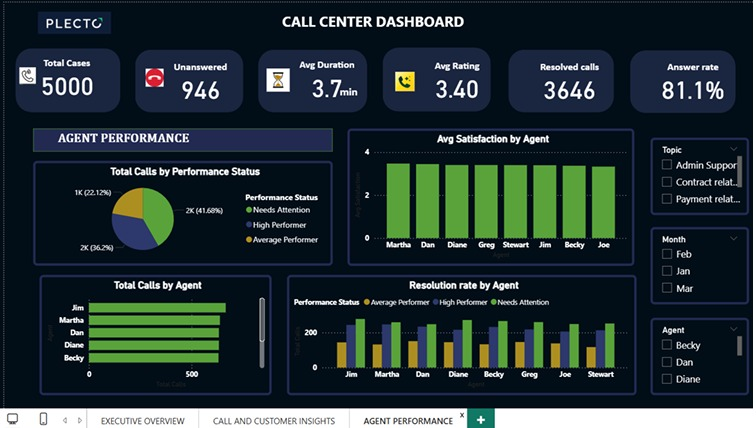

What the dashboard file says about the page in this screenshot:
{"tool":"powerbi","page":{"name":"AGENT PERFORMANCE","canvas":[1280,720],"ordinal":2},"visuals":[{"type":"image","box":[48.9,10.7,139.5,47.7],"z":0},{"type":"shape","box":[19.1,77.5,177.6,108.5],"z":1000},{"type":"card","title":"Total Cases","fields":{"Values":["main.Total Calls"]},"box":[48.9,90.6,114.4,72.7],"z":2000},{"type":"image","box":[19.1,104.9,40.5,39.3],"z":3000},{"type":"shape","box":[854.7,79.9,178.8,106.1],"z":4000},{"type":"shape","box":[221.7,79.9,183.6,106.1],"z":5000},{"type":"shape","box":[430.3,79.9,184.8,106.1],"z":6000},{"type":"shape","box":[641.3,76.3,183.6,108.5],"z":7000},{"type":"card","title":"Unanswered","fields":{"Values":["main.Unanswered Calls"]},"box":[275.4,97.7,114.4,72.7],"z":8000},{"type":"card","title":"Avg Duration","fields":{"Values":["main.Avg Talk Duration"]},"box":[479.2,94.2,135.9,72.7],"z":9000},{"type":"card","title":"Avg Rating","fields":{"Values":["main.Avg Satisfaction"]},"box":[710.4,95.4,114.4,72.7],"z":10000},{"type":"textbox","box":[466.1,10.7,349.3,47.7],"z":11000},{"type":"image","box":[234.8,107.3,40.5,40.5],"z":12000},{"type":"image","box":[658,94.2,42.9,78.7],"z":13000},{"type":"image","box":[439.9,96.6,48.9,70.3],"z":14000},{"type":"card","title":"Resolved calls","fields":{"Values":["main.Resolved Calls"]},"box":[901.2,97.7,114.4,72.7],"z":15000},{"type":"shape","box":[1060.9,81.1,178.8,106.1],"z":16000},{"type":"card","title":"Answer rate","fields":{"Values":["main.Answer Rate"]},"box":[1095.5,97.7,144.2,72.7],"z":17000},{"type":"textbox","box":[563.8,134.7,51.3,34.6],"z":18000},{"type":"shape","box":[48.9,213.4,507.8,39.3],"z":19000},{"type":"textbox","box":[85.8,213.4,264.6,40.5],"z":20000},{"type":"clusteredColumnChart","title":"Resolution rate by Agent","fields":{"Category":["main.Agent"],"Series":["main.Performance Status"],"Y":["main.Total Calls"]},"box":[479.2,461.3,592.4,203.8],"z":21000},{"type":"barChart","fields":{"Y":["main.Total Calls"],"Category":["main.Agent"]},"box":[59.6,461.3,393.4,203.8],"z":22000},{"type":"columnChart","fields":{"Category":["main.Agent"],"Y":["main.Avg Satisfaction"]},"box":[581.7,213.4,486.3,232.4],"z":23000},{"type":"slicer","fields":{"Values":["main.Topic"]},"box":[1095.5,228.9,166.9,131.1],"z":24000},{"type":"slicer","fields":{"Values":["DateTable.Month"]},"box":[1095.5,380.3,166.9,131.1],"z":25000},{"type":"slicer","fields":{"Values":["main.Agent"]},"box":[1095.5,534,166.9,131.1],"z":26000},{"type":"pieChart","fields":{"Category":["main.Performance Status"],"Y":["main.Total Calls"]},"box":[48.9,268.2,507.8,177.6],"z":26001}]}

Visuals, with their boxes on the page's 1280x720 design canvas (x1, y1, x2, y2). These are canvas units, not pixel positions in the 756x428 screenshot, which may show the page scaled, cropped or inside an application window:
image: region(49, 11, 188, 58)
shape: region(19, 78, 197, 186)
"Total Cases" card: region(49, 91, 163, 163)
image: region(19, 105, 60, 144)
shape: region(855, 80, 1034, 186)
shape: region(222, 80, 405, 186)
shape: region(430, 80, 615, 186)
shape: region(641, 76, 825, 185)
"Unanswered" card: region(275, 98, 390, 170)
"Avg Duration" card: region(479, 94, 615, 167)
"Avg Rating" card: region(710, 95, 825, 168)
textbox: region(466, 11, 815, 58)
image: region(235, 107, 275, 148)
image: region(658, 94, 701, 173)
image: region(440, 97, 489, 167)
"Resolved calls" card: region(901, 98, 1016, 170)
shape: region(1061, 81, 1240, 187)
"Answer rate" card: region(1096, 98, 1240, 170)
textbox: region(564, 135, 615, 169)
shape: region(49, 213, 557, 253)
textbox: region(86, 213, 350, 254)
"Resolution rate by Agent" clusteredColumnChart: region(479, 461, 1072, 665)
barChart - main.Total Calls x main.Agent: region(60, 461, 453, 665)
columnChart - main.Agent x main.Avg Satisfaction: region(582, 213, 1068, 446)
slicer - main.Topic: region(1096, 229, 1262, 360)
slicer - DateTable.Month: region(1096, 380, 1262, 511)
slicer - main.Agent: region(1096, 534, 1262, 665)
pieChart - main.Performance Status x main.Total Calls: region(49, 268, 557, 446)
